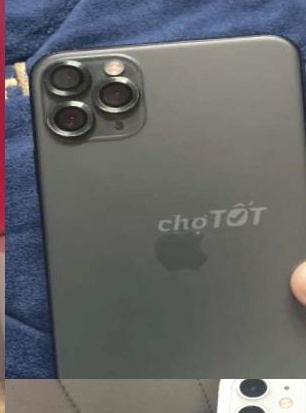scratch: (70, 93, 103, 119), (134, 87, 156, 106), (43, 55, 67, 70)
